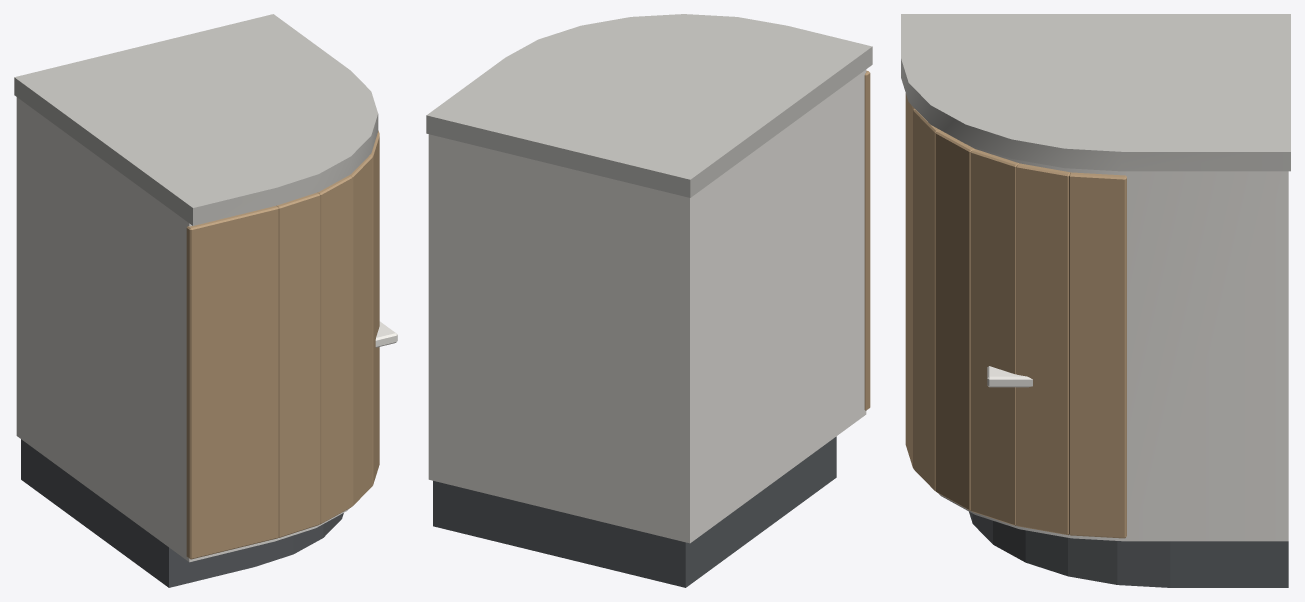
File: bakery-and-cafe-counter-end-curved-e8f36e7d__22122.glb
3 views of the same model, side by side, from view 1: azimuth 30°, elevation 25°; view 2: azimuth 150°, elevation 25°; view 3: azimuth 270°, elevation 25° (orthographic). The views are drawn at different scales.
Parts seen in each view (by area): view 1: counter-end-curved; view 2: counter-end-curved; view 3: counter-end-curved.
Boxes of the visible parts, left/top/right/bottom form: counter-end-curved: left=14, top=14, right=397, bottom=587; counter-end-curved: left=426, top=14, right=872, bottom=587; counter-end-curved: left=901, top=14, right=1290, bottom=587.
Size of the model in its own units: 0.6158 by 0.9 by 0.724.
